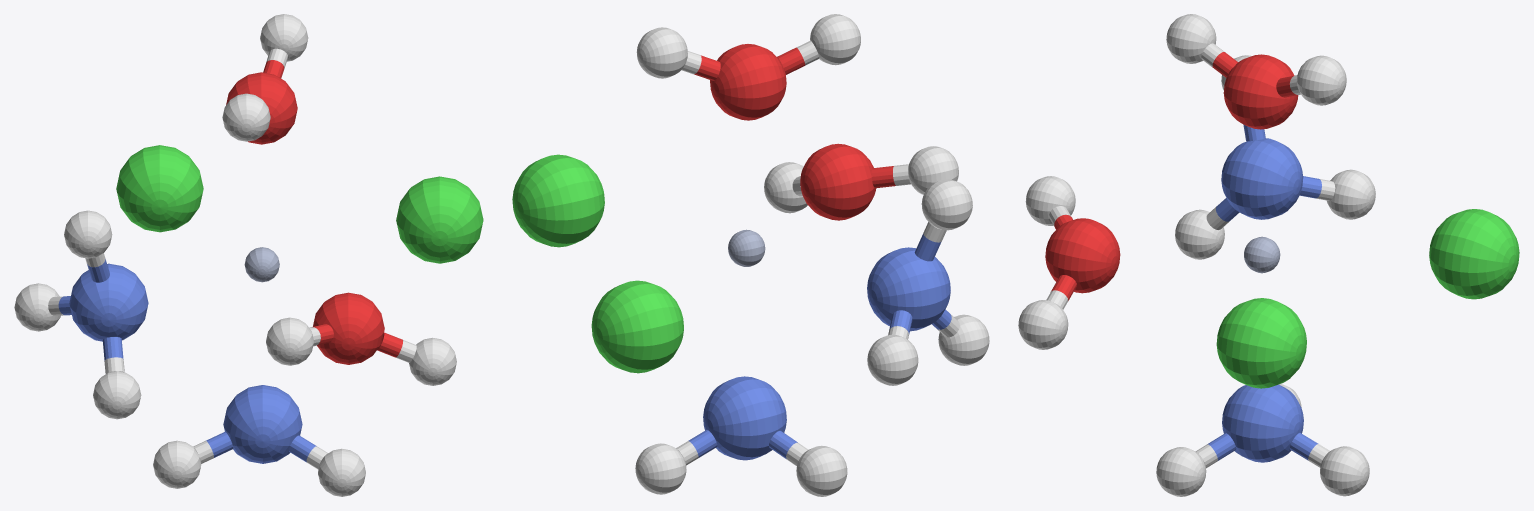
The model's file is cis-diacuodiclorodiamminhierro.gltf.
The picture shows the model from 3 angles, left to right: view 1: azimuth 30°, elevation 25°; view 2: azimuth 150°, elevation 25°; view 3: azimuth 270°, elevation 25°; orthographic projection. The views are drawn at different scales.
Visible parts, largest first — view 1: ShapeSphere.008_ShapeSphere.009, ShapeSphere.007_ShapeSphere.008, ShapeSphere.001_ShapeSphere.002, ShapeSphere.004_ShapeSphere.005, ShapeSphere.011_ShapeSphere.012, ShapeSphere.014_ShapeSphere.015, ShapeSphere.015_ShapeSphere.016, ShapeSphere.010_ShapeSphere.011, ShapeSphere.012_ShapeSphere.013, ShapeSphere.005_ShapeSphere.006, ShapeSphere.009_ShapeSphere.010, ShapeSphere.003_ShapeSphere.004 (+4 smaller); view 2: ShapeSphere.008_ShapeSphere.009, ShapeSphere.007_ShapeSphere.008, ShapeSphere.001_ShapeSphere.002, ShapeSphere.004_ShapeSphere.005, ShapeSphere.011_ShapeSphere.012, ShapeSphere.014_ShapeSphere.015, ShapeSphere.002_ShapeSphere.003, ShapeSphere.016_ShapeSphere, ShapeSphere.005_ShapeSphere.006, ShapeSphere.009_ShapeSphere.010, ShapeSphere.006_ShapeSphere.007, ShapeSphere.015_ShapeSphere.016 (+4 smaller); view 3: ShapeSphere.007_ShapeSphere.008, ShapeSphere.008_ShapeSphere.009, ShapeSphere.004_ShapeSphere.005, ShapeSphere.001_ShapeSphere.002, ShapeSphere.011_ShapeSphere.012, ShapeSphere.014_ShapeSphere.015, ShapeSphere.016_ShapeSphere, ShapeSphere.002_ShapeSphere.003, ShapeSphere.003_ShapeSphere.004, ShapeSphere.013_ShapeSphere.014, ShapeSphere.015_ShapeSphere.016, ShapeSphere.006_ShapeSphere.007 (+3 smaller).
Part boxes in pixels (x1,y1,x2,y2): ShapeSphere.008_ShapeSphere.009: (396,176,483,263); ShapeSphere.007_ShapeSphere.008: (116,145,203,232); ShapeSphere.001_ShapeSphere.002: (223,385,302,463); ShapeSphere.004_ShapeSphere.005: (69,263,148,341); ShapeSphere.011_ShapeSphere.012: (313,292,384,364); ShapeSphere.014_ShapeSphere.015: (226,72,297,144); ShapeSphere.015_ShapeSphere.016: (222,93,270,141); ShapeSphere.010_ShapeSphere.011: (93,371,141,419); ShapeSphere.012_ShapeSphere.013: (266,317,313,365); ShapeSphere.005_ShapeSphere.006: (64,210,112,258); ShapeSphere.009_ShapeSphere.010: (153,440,201,488); ShapeSphere.003_ShapeSphere.004: (318,448,365,496); ShapeSphere.008_ShapeSphere.009: (512,154,604,247); ShapeSphere.007_ShapeSphere.008: (591,280,683,373); ShapeSphere.001_ShapeSphere.002: (703,376,786,460); ShapeSphere.004_ShapeSphere.005: (867,247,950,331); ShapeSphere.011_ShapeSphere.012: (800,143,876,220); ShapeSphere.014_ShapeSphere.015: (710,44,786,120); ShapeSphere.002_ShapeSphere.003: (635,443,686,494); ShapeSphere.016_ShapeSphere: (636,27,687,78); ShapeSphere.005_ShapeSphere.006: (921,179,972,230); ShapeSphere.009_ShapeSphere.010: (796,445,847,496); ShapeSphere.006_ShapeSphere.007: (867,334,918,385); ShapeSphere.015_ShapeSphere.016: (810,14,860,65); ShapeSphere.007_ShapeSphere.008: (1429,209,1519,299); ShapeSphere.008_ShapeSphere.009: (1216,298,1306,388); ShapeSphere.004_ShapeSphere.005: (1221,138,1303,219); ShapeSphere.001_ShapeSphere.002: (1222,384,1303,462); ShapeSphere.011_ShapeSphere.012: (1045,218,1120,293); ShapeSphere.014_ShapeSphere.015: (1223,54,1298,129); ShapeSphere.016_ShapeSphere: (1296,55,1346,105); ShapeSphere.002_ShapeSphere.003: (1320,446,1369,496); ShapeSphere.003_ShapeSphere.004: (1156,447,1206,496); ShapeSphere.013_ShapeSphere.014: (1018,300,1068,349); ShapeSphere.015_ShapeSphere.016: (1166,14,1216,63); ShapeSphere.006_ShapeSphere.007: (1327,169,1375,219).
Bounding box in the file's own units: 4.99 × 4.87 × 5.01.
